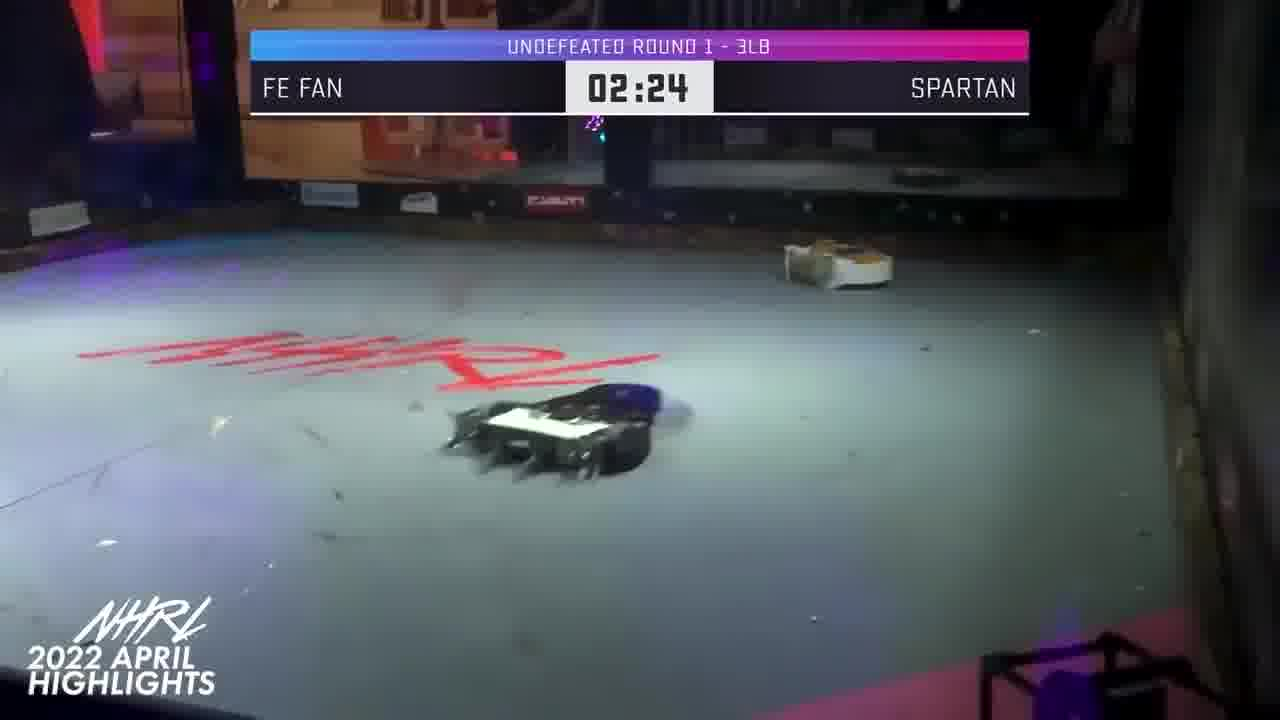combatbot: (441, 382, 668, 485), (780, 240, 896, 293)
